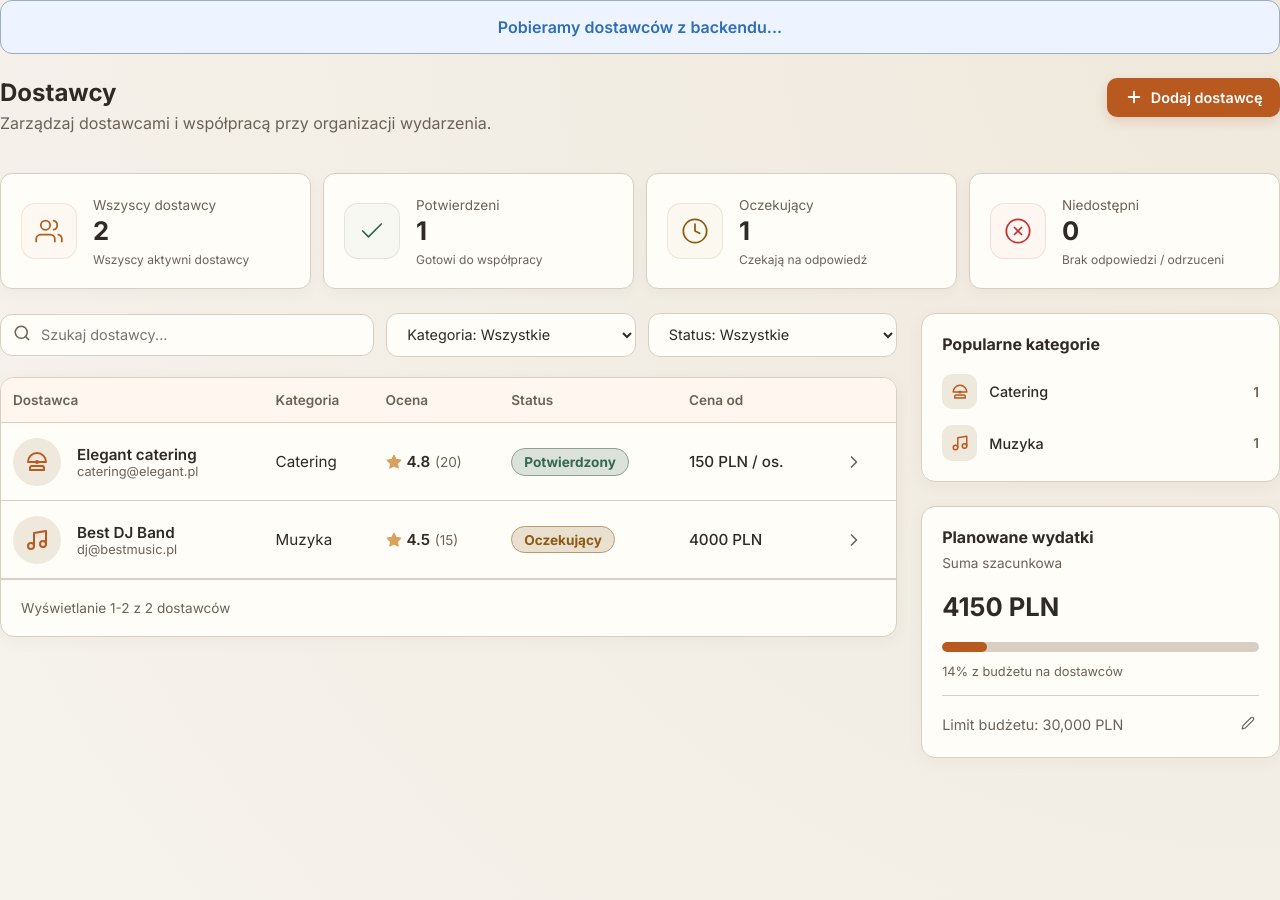
VendorsPage Component › opens and closes the Add Vendor modal dialog
The image size is (1280, 900).
Click "Add Vendor" button
Click the button "Dodaj dostawcę".
click(1194, 97)  # box [1107,78,1279,117]
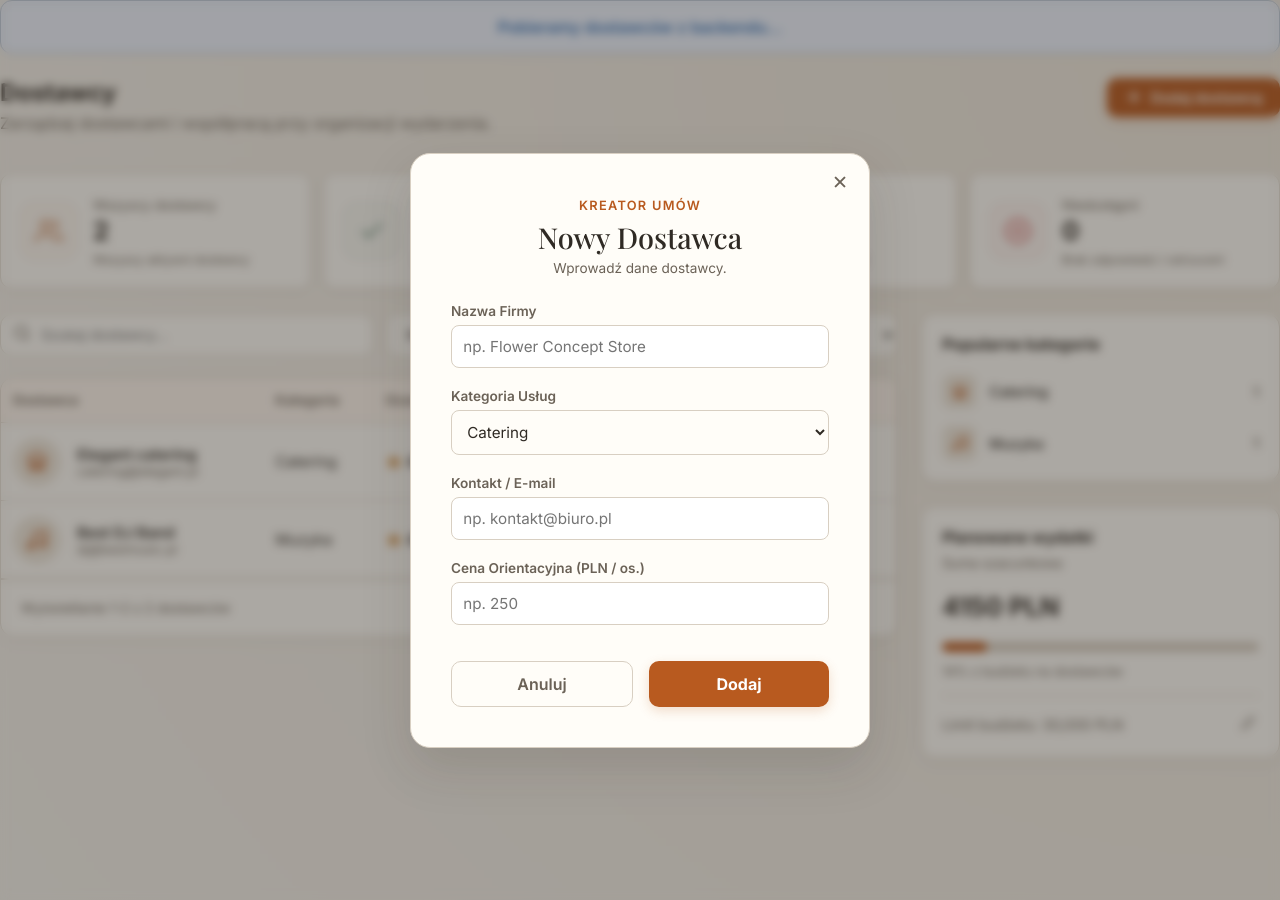
expect the heading "Nowy Dostawca" is shown: met, box [538,218,742,256]
Click "Cancel" button to close it
Click the button "Anuluj".
click(542, 684)  # box [451,660,633,706]
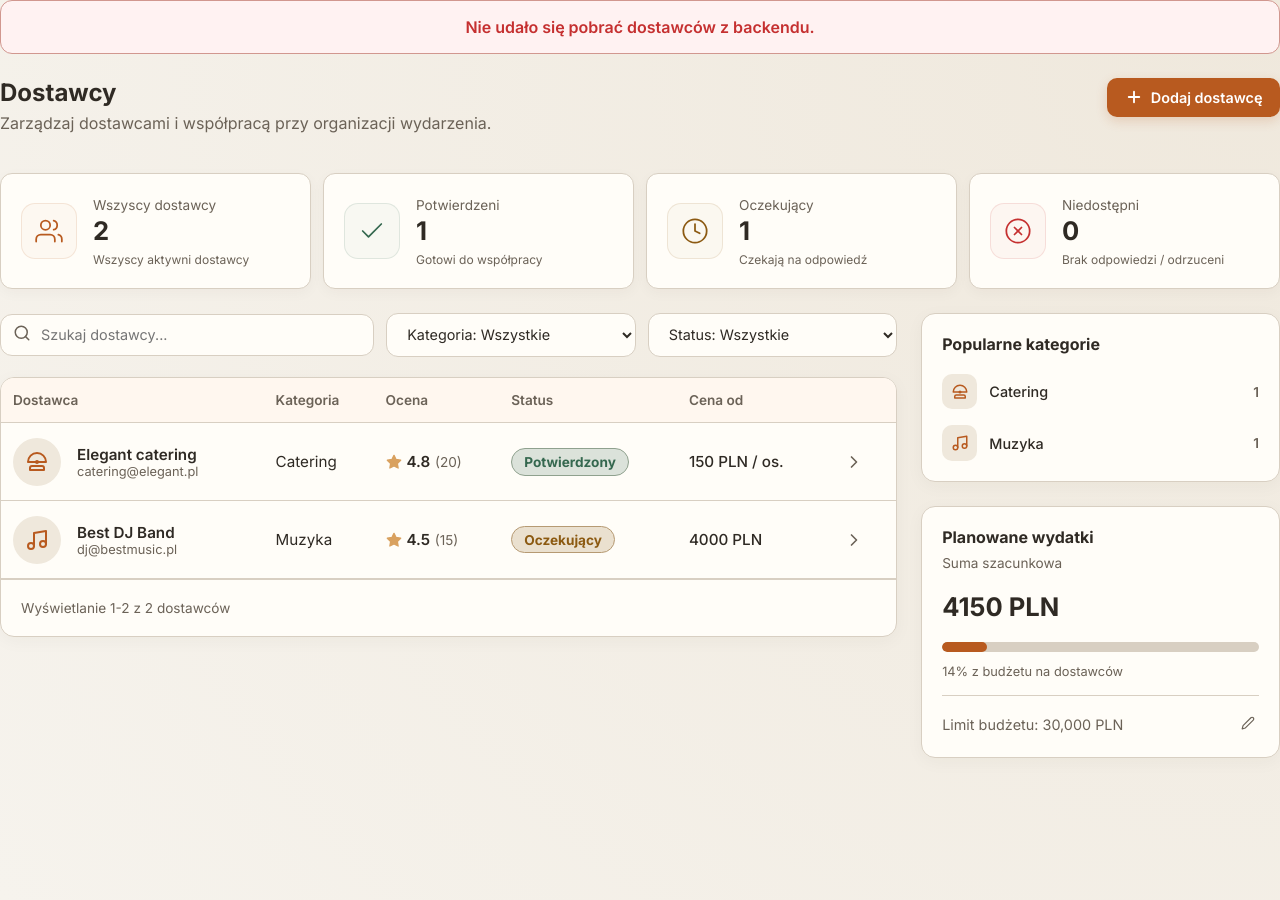
expect the heading "Nowy Dostawca" is gone: met
